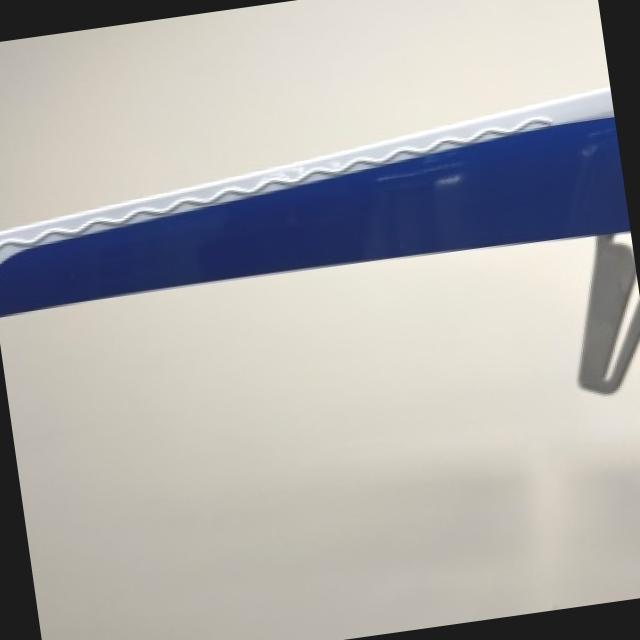healthy: (0, 86, 640, 389)
